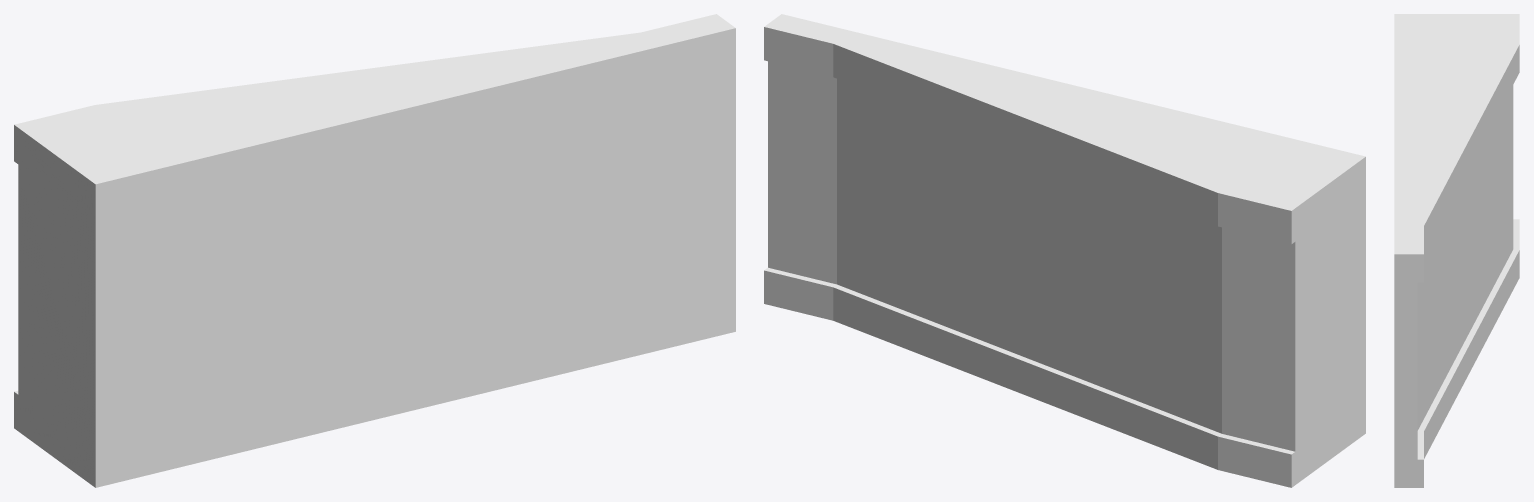
Rendered from venice_road_6.fbx.
3 renders of one model, left to right at view 1: azimuth 30°, elevation 25°; view 2: azimuth 150°, elevation 25°; view 3: azimuth 270°, elevation 25°, orthographic. The views are drawn at different scales.
Parts seen in each view (by area): view 1: Cube.294; view 2: Cube.294; view 3: Cube.294.
Boxes of the visible parts, x1,y1,x2,y2 form: Cube.294: [14, 14, 735, 487]; Cube.294: [764, 14, 1365, 487]; Cube.294: [1394, 14, 1519, 487].
Size of the model in its own units: 1215 by 550 by 268.
